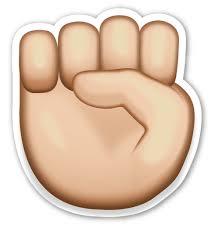fist: (44, 33, 179, 191)
